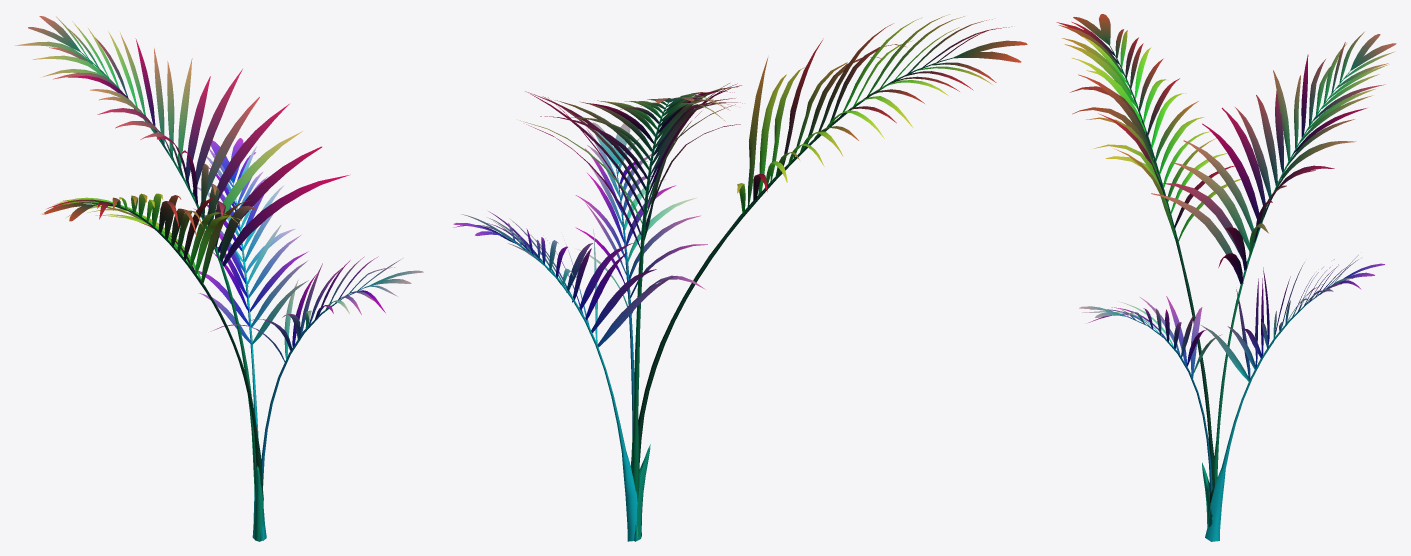
File: ukgkcilia_VarC_LOD1.fbx
3 views of the same model, side by side, from view 1: azimuth 30°, elevation 25°; view 2: azimuth 150°, elevation 25°; view 3: azimuth 270°, elevation 25° (orthographic). The views are drawn at different scales.
Parts seen in each view (by area): view 1: _wuug_VarC_LOD2; view 2: _wuug_VarC_LOD2; view 3: _wuug_VarC_LOD2.
Boxes of the visible parts, x1,y1,x2,y2 form: _wuug_VarC_LOD2: [15, 16, 423, 541]; _wuug_VarC_LOD2: [453, 14, 1027, 541]; _wuug_VarC_LOD2: [1056, 14, 1396, 541].
Bounding box in the file's own units: 131 × 160 × 112.
